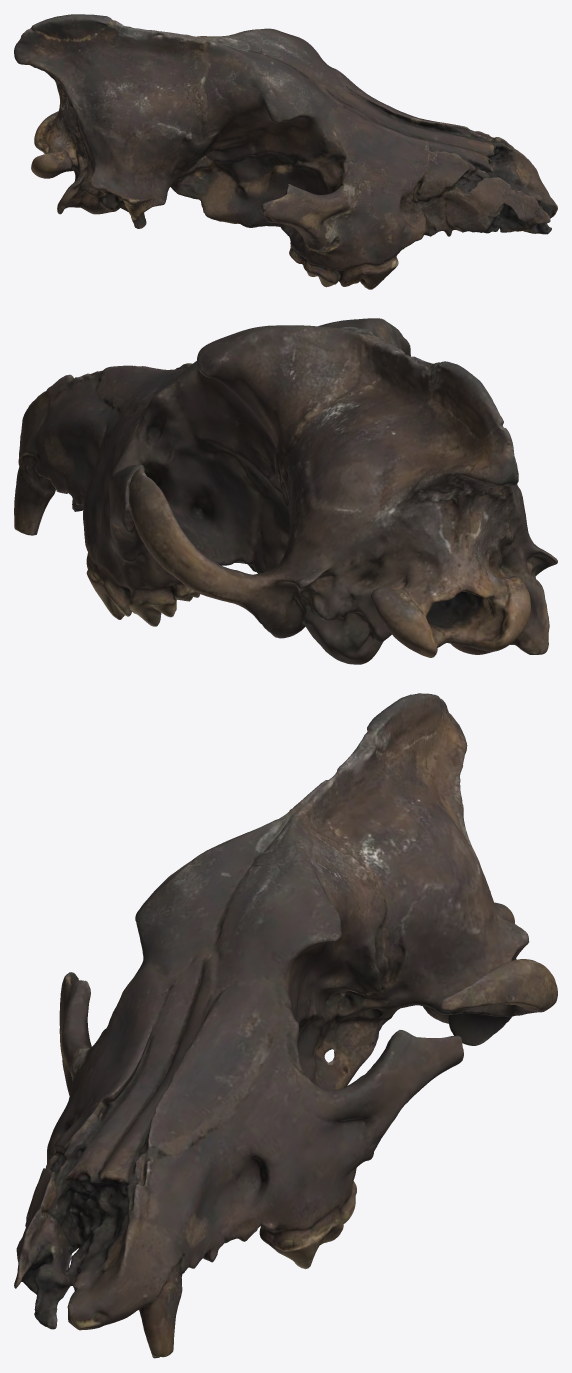
3 views of the same model, one above another, from view 1: azimuth 30°, elevation 25°; view 2: azimuth 150°, elevation 25°; view 3: azimuth 270°, elevation 25° (orthographic). The views are drawn at different scales.
Parts seen in each view (by area): view 1: Canis_dirus_Leidy-unwrapped-webmulti; view 2: Canis_dirus_Leidy-unwrapped-webmulti; view 3: Canis_dirus_Leidy-unwrapped-webmulti.
Part boxes in pixels (box(x1,y1,x2,y2)): Canis_dirus_Leidy-unwrapped-webmulti: box(14, 14, 557, 289); Canis_dirus_Leidy-unwrapped-webmulti: box(14, 318, 557, 664); Canis_dirus_Leidy-unwrapped-webmulti: box(14, 693, 557, 1358).
Bounding box in the file's own units: 8169 × 4553 × 5787.
Materials: 1 (1 with a texture image).
